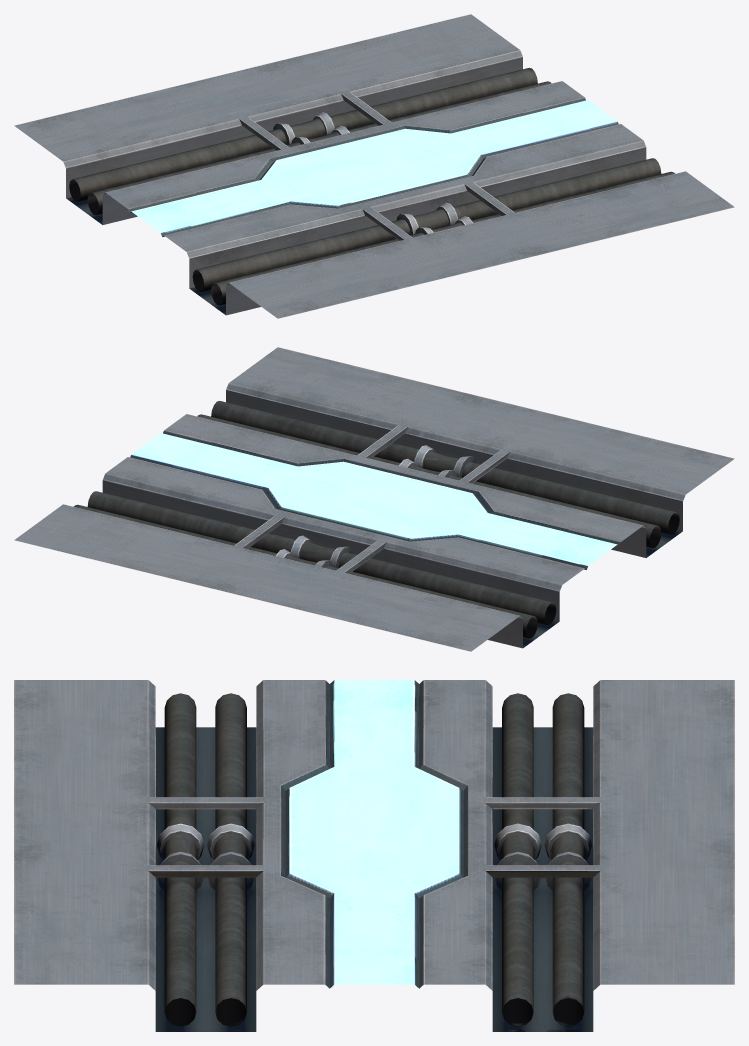
Rendered from DS_SM0005_Scifi_Room_FloorBase_04.fbx.
3 views of the same model, one above another, from view 1: azimuth 30°, elevation 25°; view 2: azimuth 150°, elevation 25°; view 3: azimuth 270°, elevation 25° (orthographic). The views are drawn at different scales.
Visible parts, largest first — view 1: DS_SM0005_Scifi_Room_FloorBase_04_LP; view 2: DS_SM0005_Scifi_Room_FloorBase_04_LP; view 3: DS_SM0005_Scifi_Room_FloorBase_04_LP.
Part boxes in pixels (bbox=[...]): DS_SM0005_Scifi_Room_FloorBase_04_LP: bbox=[14, 14, 734, 318]; DS_SM0005_Scifi_Room_FloorBase_04_LP: bbox=[14, 347, 734, 651]; DS_SM0005_Scifi_Room_FloorBase_04_LP: bbox=[14, 680, 734, 1031].
Size of the model in its own units: 400 by 30.21 by 400.
